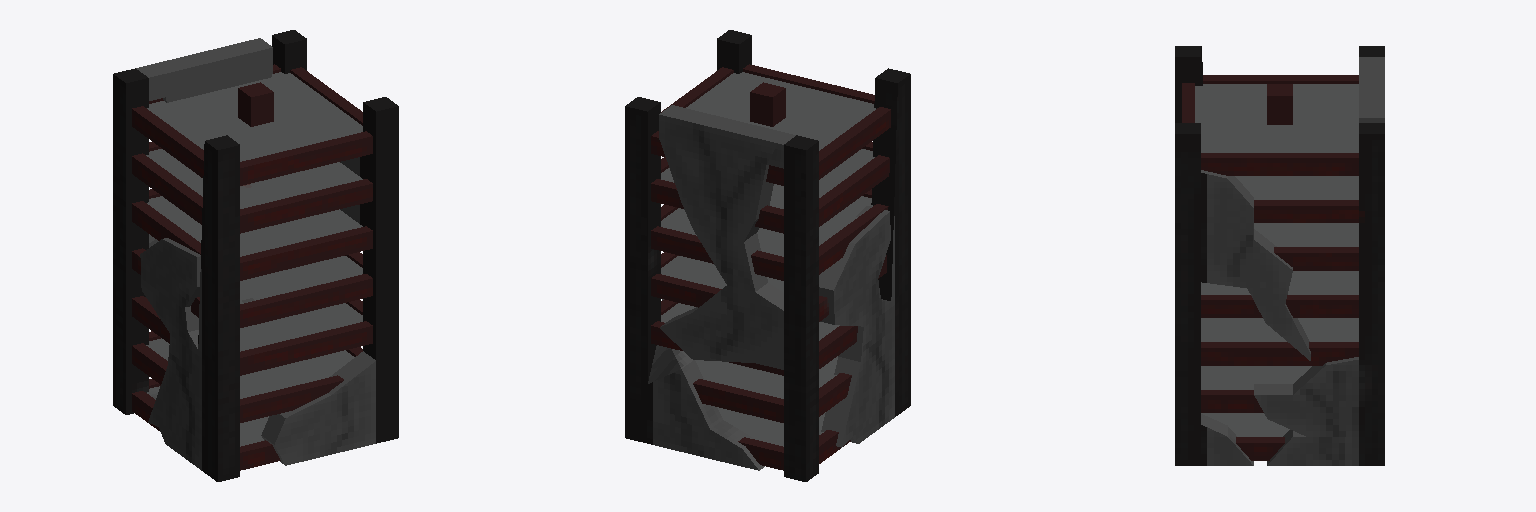
The picture shows the model from 3 angles: view 1: azimuth 30°, elevation 25°; view 2: azimuth 150°, elevation 25°; view 3: azimuth 270°, elevation 25°; orthographic projection.
Visible parts, largest first — view 1: cuboid; view 2: cuboid; view 3: cuboid.
Boxes of the visible parts, box(x1,y1,x2,y2) form: cuboid: box(113, 30, 398, 481); cuboid: box(625, 30, 910, 481); cuboid: box(1175, 46, 1384, 465).
Size of the model in its own units: 1 by 1.75 by 1.
1 materials, 1 textured.